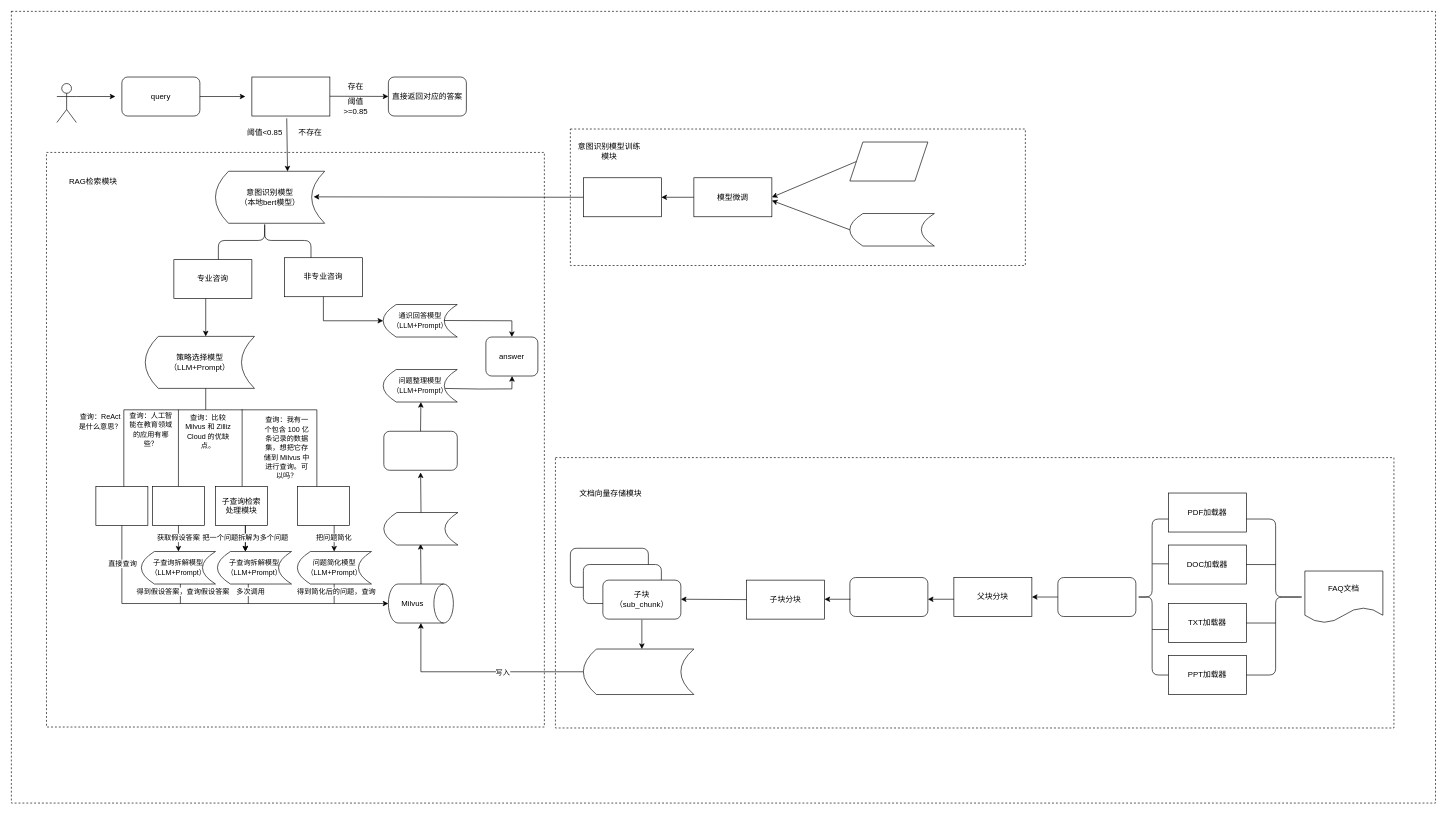
This 1447x814 diagram has some shape labels left out. The centre of each missing label's shape, as x and y in pixels:
document: pixel 1096 597
Redis和Mysql数据库检索: pixel 290 96
rerank模型 （本地模型）: pixel 420 528
假设问题检索 处理模块: pixel 178 506
回溯问题检索 处理模块: pixel 323 506
意图分类数据: pixel 888 161
文档嵌入模型 （bg-em3本地模型）: pixel 638 671
文档父块 （chunk）: pixel 888 597
模型评估: pixel 622 197
直接检索 处理模块: pixel 121 506
通预训练模型 bert-base-chinese: pixel 891 229
问题以及相关上下文: pixel 420 450
